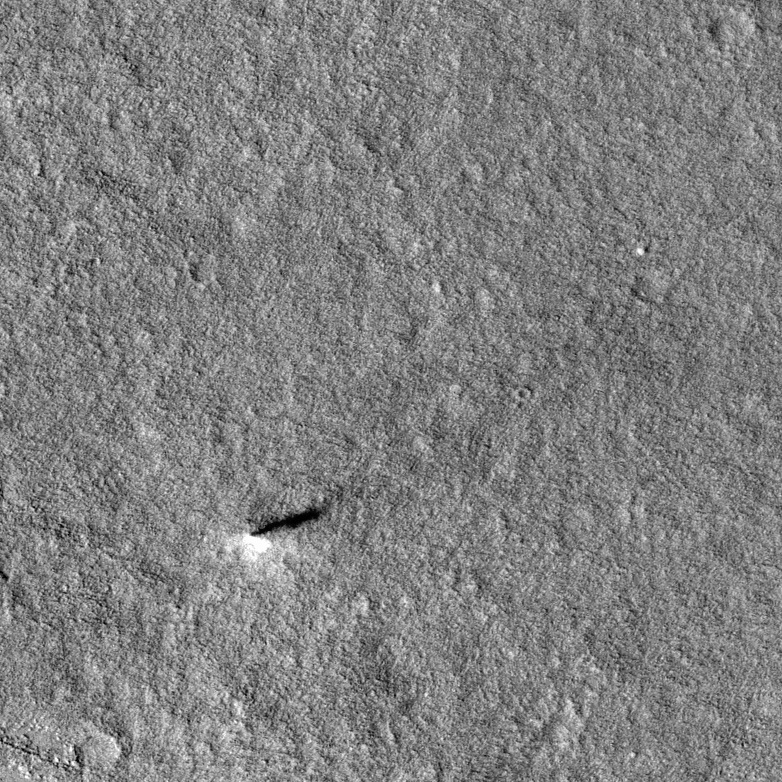dust_devil: (240, 499, 334, 558)
